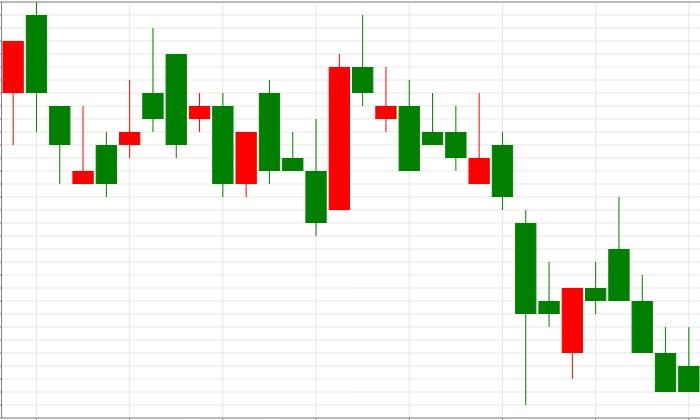inverse_hammer_rise: (351, 14, 491, 185), (351, 14, 444, 171), (25, 2, 95, 184)
three_black_crows_fall: (538, 197, 677, 392)
